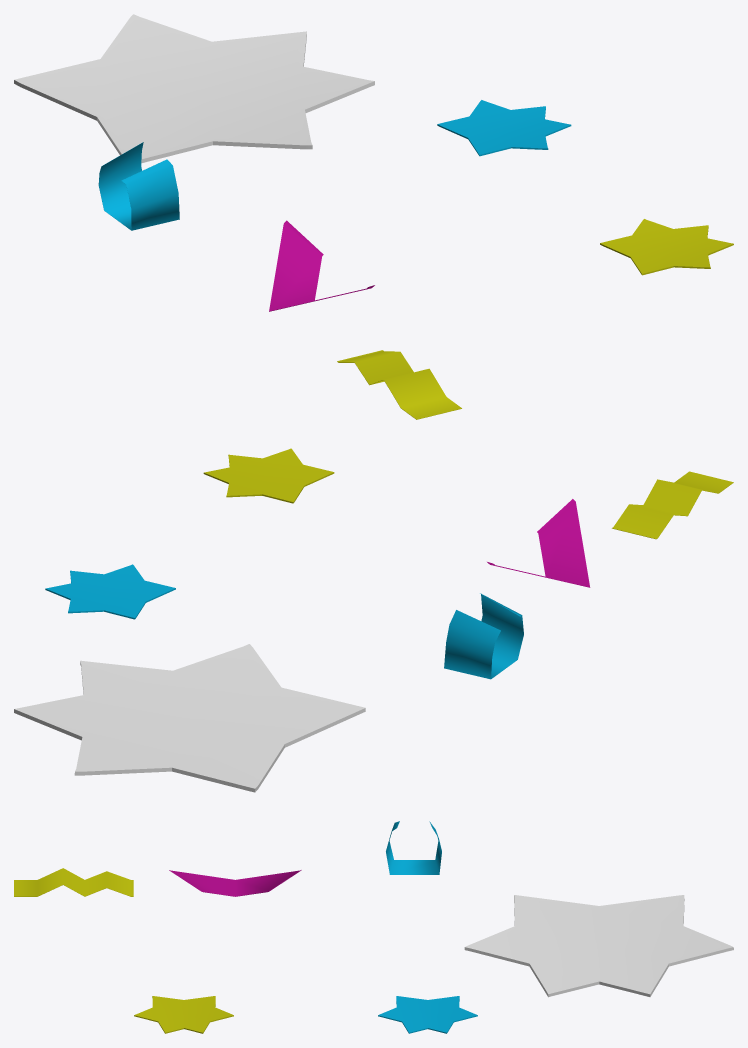
Rendered from confettis.FBX.
The picture shows the model from 3 angles, top to bottom: view 1: azimuth 30°, elevation 25°; view 2: azimuth 150°, elevation 25°; view 3: azimuth 270°, elevation 25°; orthographic projection. The views are drawn at different scales.
Visible parts, largest first — view 1: Star002, Plane001, Star003, Star001, Plane017, Plane018; view 2: Star002, Plane001, Star003, Star001, Plane017, Plane018; view 3: Star002, Star001, Star003, Plane017, Plane018, Plane001.
Boxes of the visible parts, bbox=[...] form: Star002: bbox=[14, 14, 374, 163]; Plane001: bbox=[98, 142, 179, 230]; Star003: bbox=[600, 219, 733, 275]; Star001: bbox=[437, 100, 571, 156]; Plane017: bbox=[337, 350, 461, 419]; Plane018: bbox=[269, 220, 374, 311]; Star002: bbox=[14, 644, 365, 792]; Plane001: bbox=[444, 593, 523, 679]; Star003: bbox=[203, 448, 334, 503]; Star001: bbox=[45, 564, 175, 619]; Plane017: bbox=[612, 471, 733, 539]; Plane018: bbox=[487, 499, 590, 587]; Star002: bbox=[464, 895, 733, 997]; Star001: bbox=[378, 996, 477, 1033]; Star003: bbox=[134, 996, 233, 1033]; Plane017: bbox=[14, 868, 133, 896]; Plane018: bbox=[169, 870, 301, 896]; Plane001: bbox=[386, 821, 441, 874].
Bounding box in the file's own units: 32.92 × 5.25 × 59.98.
